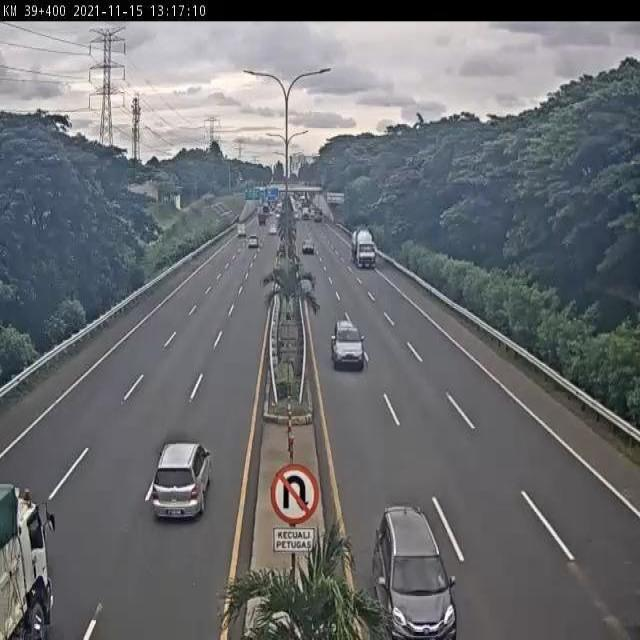Car: (369, 504, 456, 640), (151, 439, 211, 524), (332, 321, 367, 371)
Truck: (0, 483, 62, 640), (350, 228, 378, 270)
